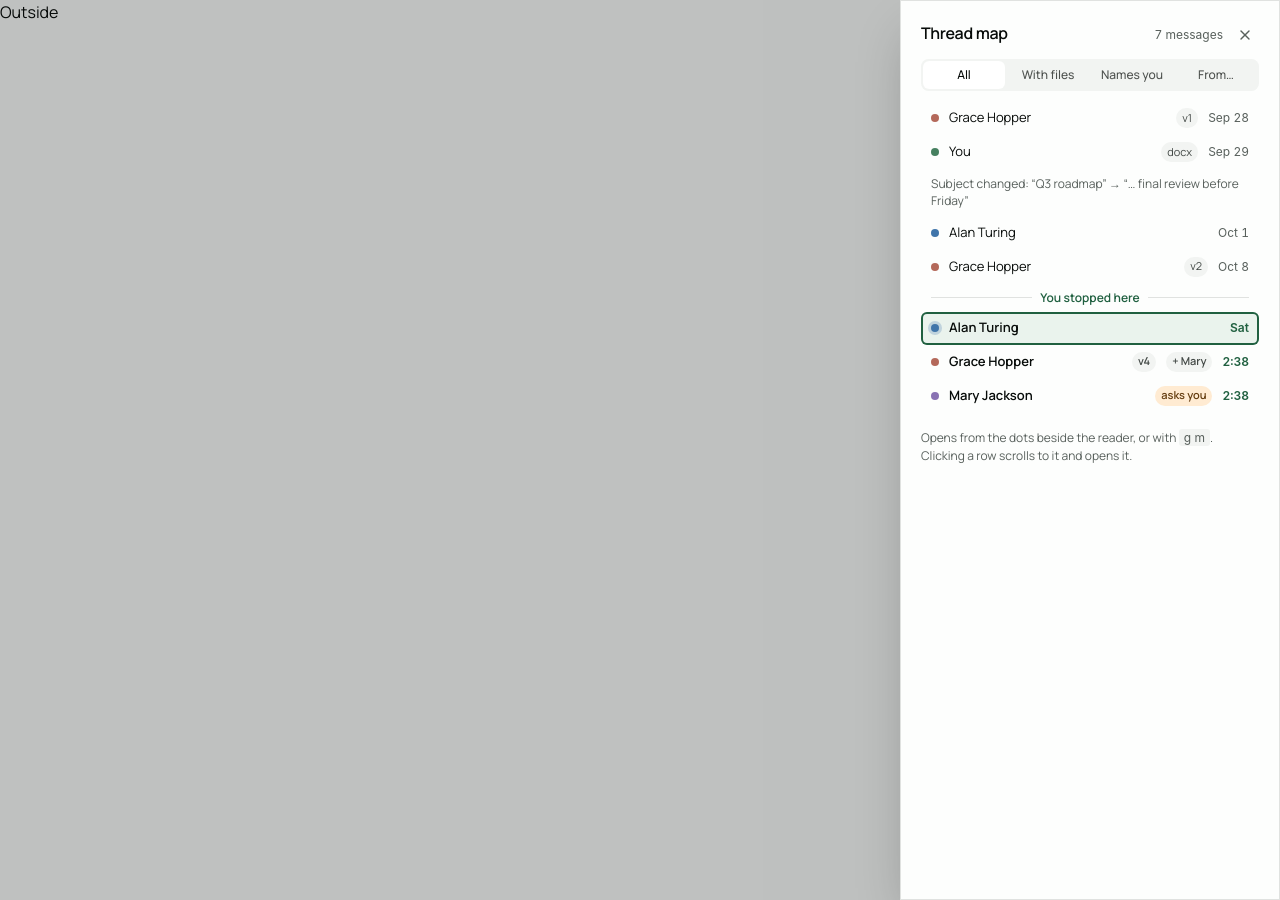
ThreadMapPanel as a sheet below xl › closes only the From… menu on Escape, not the sheet
The width and height of the screenshot is (1280, 900).
Step 1. Click the button "From…" → (1216, 75), box x1=1175 y1=61 x2=1257 y2=89
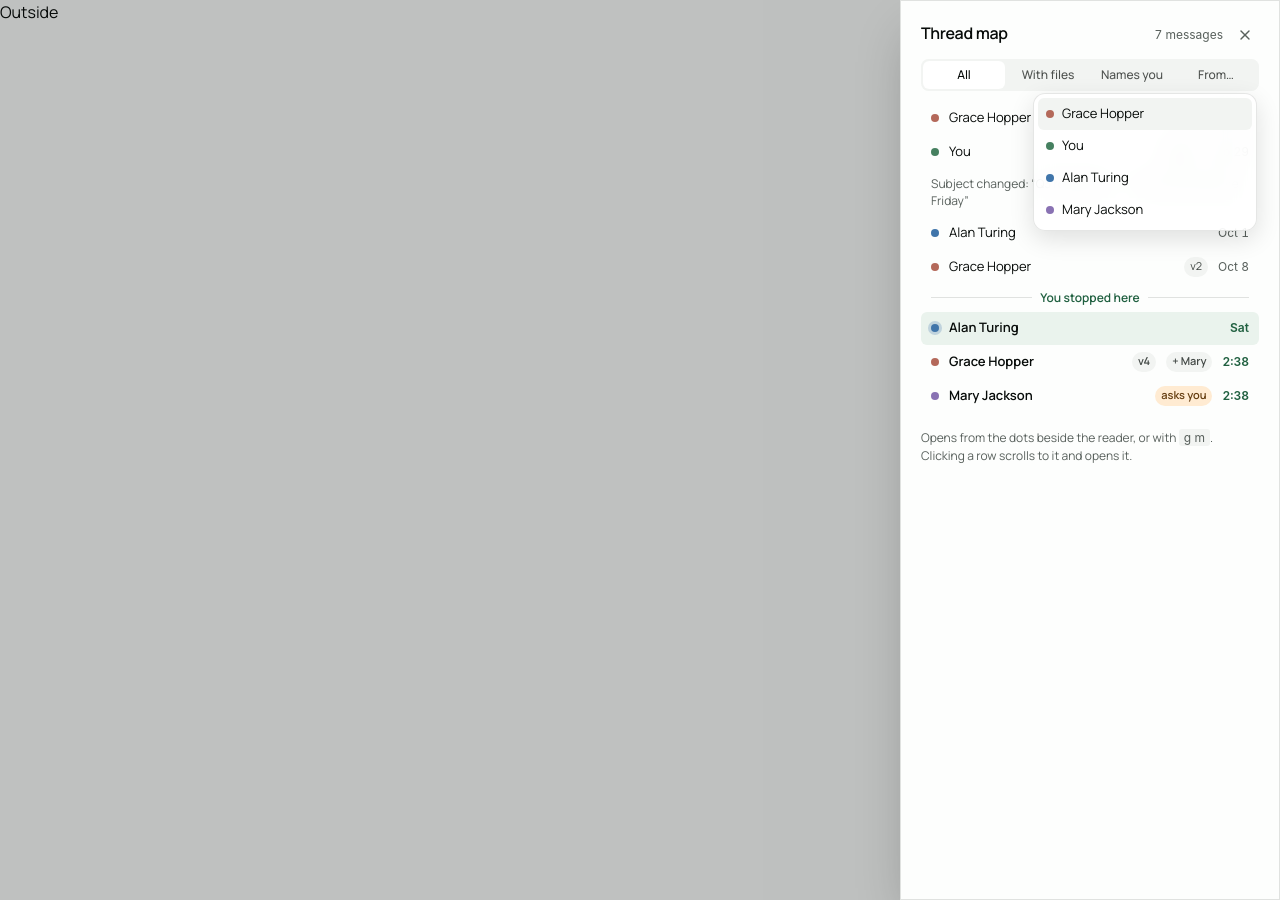
Step 2. Press Escape
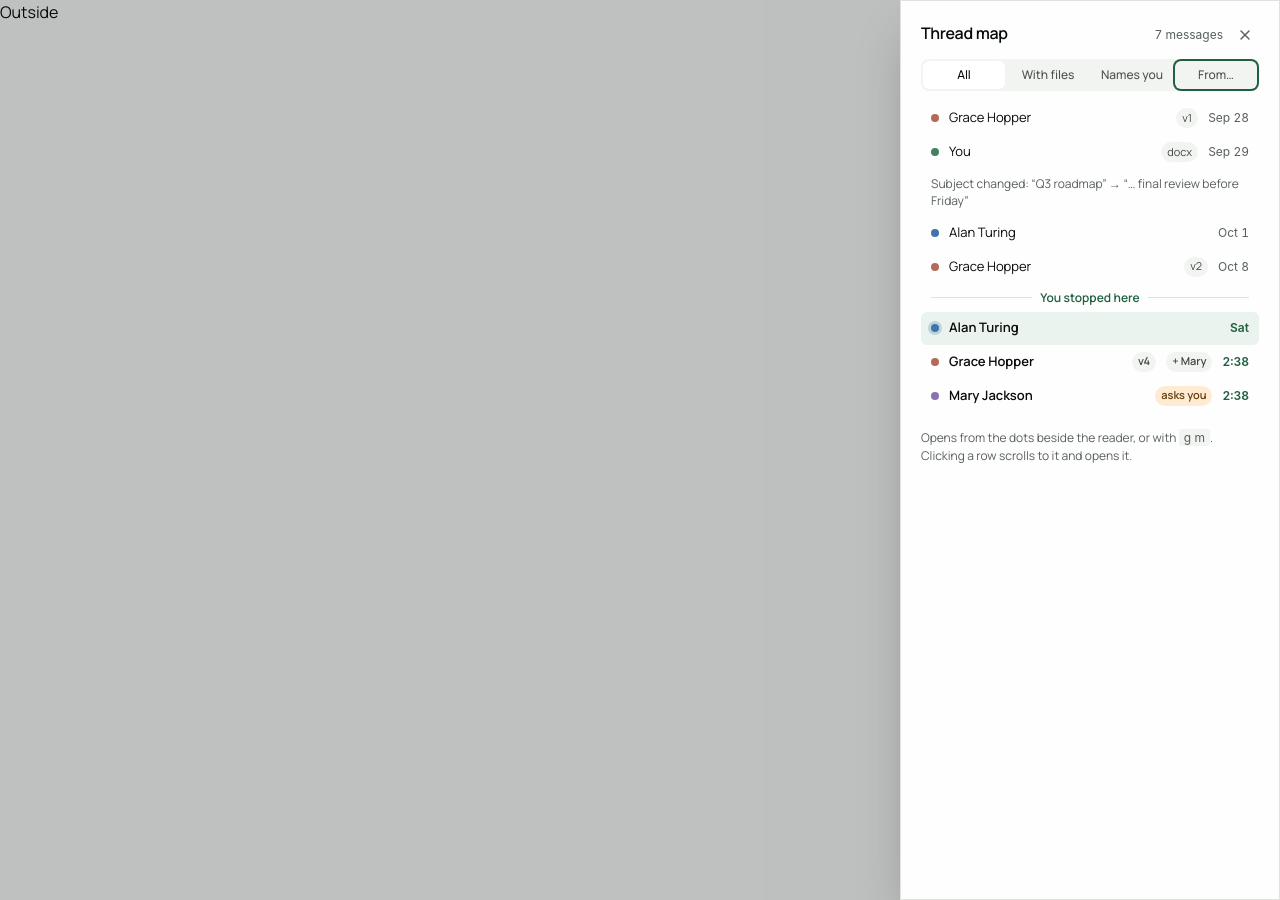
expect the dialog is shown: met, box x1=900 y1=0 x2=1279 y2=899
expect the menu is gone: met
